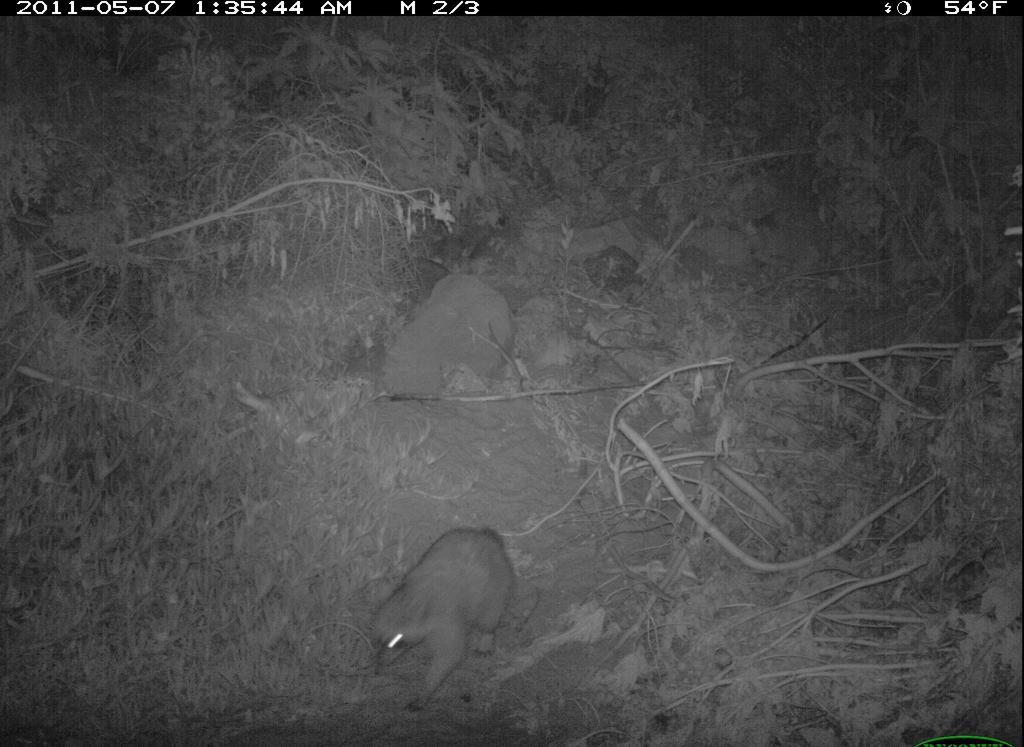raccoon: (356, 514, 523, 717)
